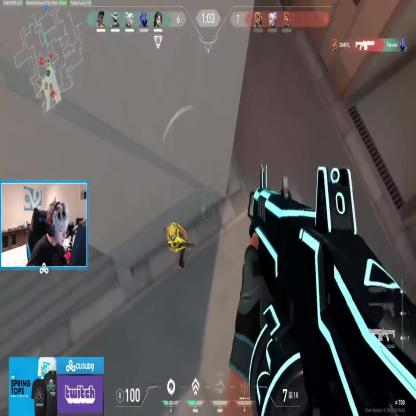enemy: (163, 219, 195, 272)
enemy_head: (168, 223, 178, 238)
